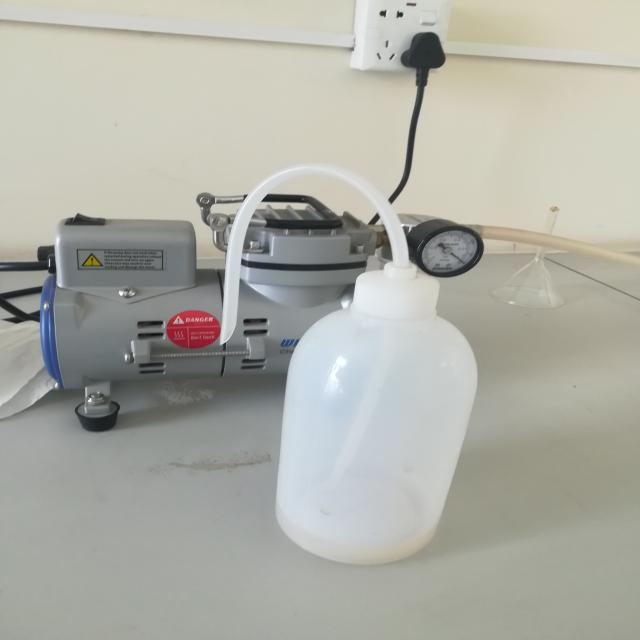Wash_Bottle: (177, 137, 495, 588)
